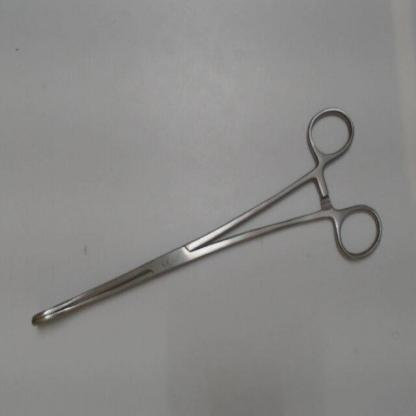Sponge Forceps: (22, 102, 389, 337)
